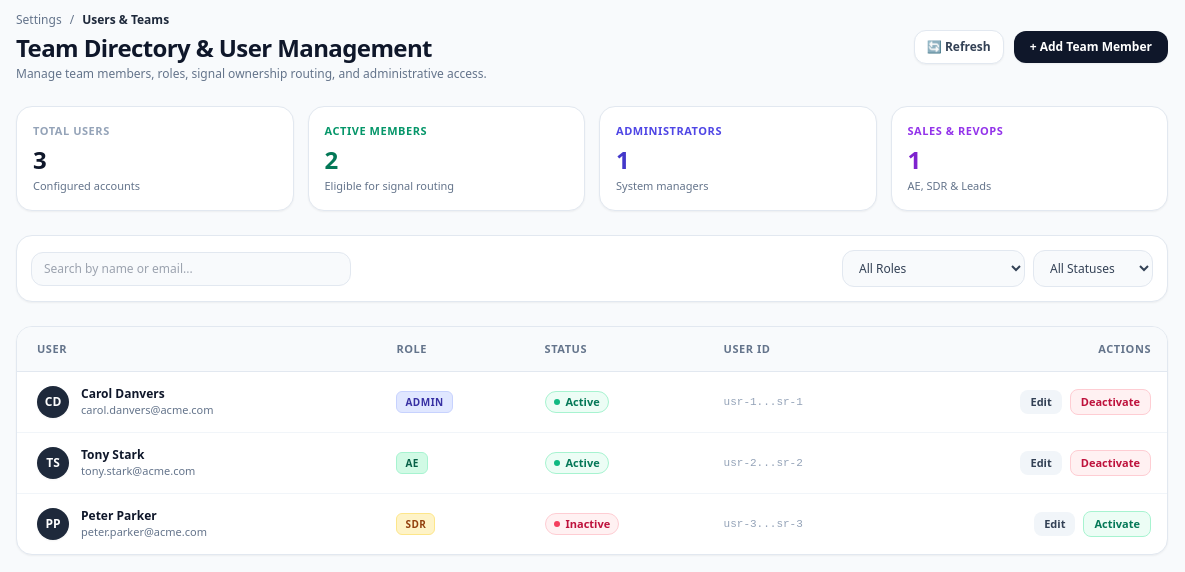
Test: UsersManagementPage › filters users by search query
Expected: the text "Tony Stark" is shown, [81,446,144,463]
Step 1. Type "Danvers" into the field with placeholder "Search by name or email..." → (191, 268), box [31,252,351,286]
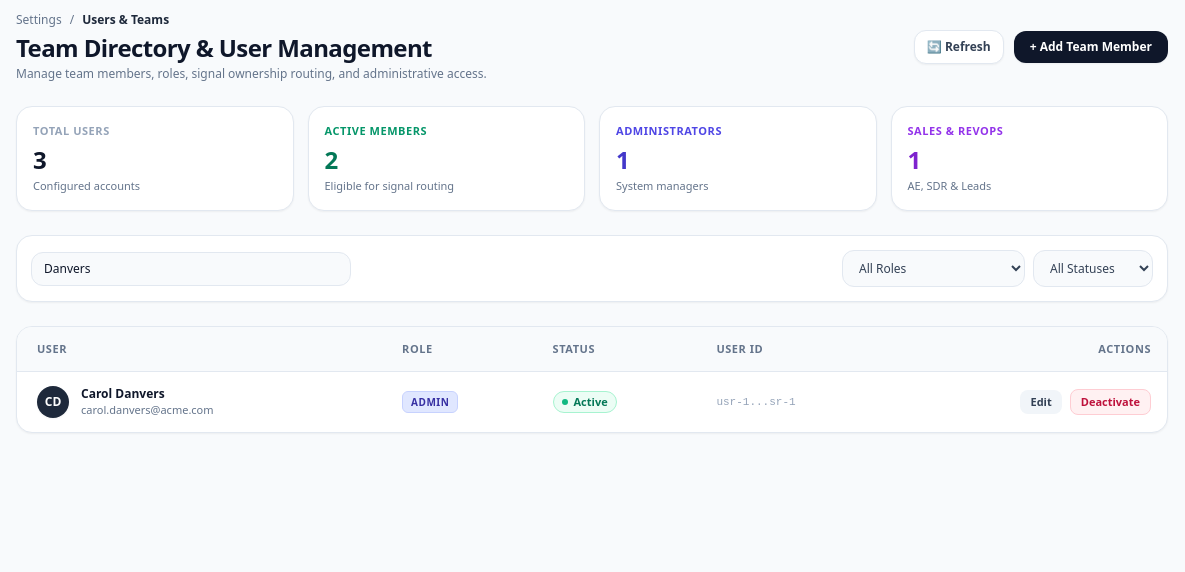
Expected: the text "Carol Danvers" is shown, [81,385,165,402]
Expected: the text "Tony Stark" is gone
